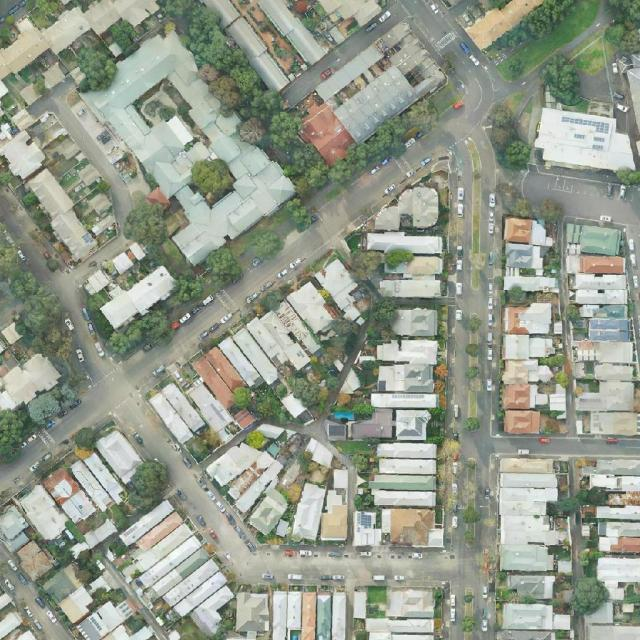building: (151, 135, 300, 268), (314, 19, 450, 148), (119, 517, 252, 640), (160, 57, 272, 187), (105, 79, 217, 199), (499, 458, 571, 640), (560, 215, 636, 368), (81, 24, 192, 124), (203, 426, 294, 516), (24, 165, 101, 266), (502, 302, 555, 434), (244, 296, 325, 381), (58, 568, 141, 640), (99, 264, 182, 334), (235, 591, 346, 640), (289, 98, 360, 171), (574, 361, 640, 436), (255, 0, 328, 67), (585, 557, 640, 639), (369, 442, 436, 508), (463, 0, 547, 52), (292, 468, 349, 541), (504, 218, 558, 292), (147, 381, 208, 446), (69, 449, 129, 515), (182, 380, 242, 444), (353, 508, 444, 548), (15, 483, 73, 545), (369, 392, 439, 442), (41, 465, 97, 527), (325, 409, 430, 441), (285, 279, 341, 338), (41, 565, 99, 621), (373, 185, 441, 232), (93, 426, 147, 484), (377, 340, 437, 392), (0, 24, 51, 83), (231, 327, 282, 386), (37, 3, 93, 55), (314, 257, 365, 311), (190, 355, 238, 410), (246, 487, 293, 537), (217, 337, 262, 388), (125, 501, 177, 545), (203, 345, 248, 395), (67, 517, 118, 560), (366, 230, 443, 255), (26, 111, 67, 151), (279, 391, 316, 429), (392, 307, 438, 336), (301, 437, 338, 472), (384, 256, 443, 276), (380, 280, 441, 297), (255, 421, 296, 446), (174, 55, 206, 86), (81, 269, 111, 298), (340, 369, 366, 400), (54, 136, 82, 163), (39, 64, 67, 90), (340, 303, 366, 331), (10, 106, 36, 132), (88, 190, 114, 216), (90, 212, 117, 237), (231, 406, 257, 431), (17, 82, 42, 107), (76, 163, 101, 188), (110, 251, 135, 276), (1, 322, 24, 345), (607, 491, 640, 507), (549, 384, 566, 412), (14, 16, 35, 36), (68, 66, 88, 86), (117, 629, 153, 640), (327, 26, 346, 46), (128, 241, 147, 261), (0, 115, 12, 146), (104, 625, 130, 639), (354, 591, 366, 618), (107, 41, 123, 58), (217, 339, 231, 353), (222, 336, 230, 356), (1, 80, 9, 98)
greenland: (150, 0, 342, 202), (103, 239, 248, 373), (323, 90, 446, 198), (482, 0, 608, 83), (475, 101, 538, 177), (77, 491, 151, 549), (488, 180, 567, 234), (119, 454, 178, 518), (535, 51, 591, 111), (184, 148, 241, 206), (70, 28, 120, 93), (545, 482, 611, 522), (12, 180, 58, 237), (561, 570, 612, 621), (122, 202, 170, 248), (102, 15, 145, 61), (23, 0, 67, 34), (45, 531, 82, 570), (73, 548, 107, 585), (283, 195, 316, 233), (90, 584, 127, 609), (72, 426, 96, 451), (123, 611, 147, 635), (141, 495, 164, 510), (0, 171, 19, 188)
metalled_road: (70, 356, 484, 640), (223, 138, 436, 324), (27, 76, 162, 225), (401, 57, 524, 197), (516, 157, 640, 233), (391, 0, 471, 66), (560, 2, 617, 62), (492, 435, 640, 456), (329, 328, 369, 391), (300, 409, 339, 446), (500, 71, 543, 101), (568, 511, 585, 581), (477, 54, 504, 86), (443, 42, 479, 66), (569, 456, 579, 496), (574, 615, 581, 640), (329, 444, 340, 457), (497, 75, 506, 83)
